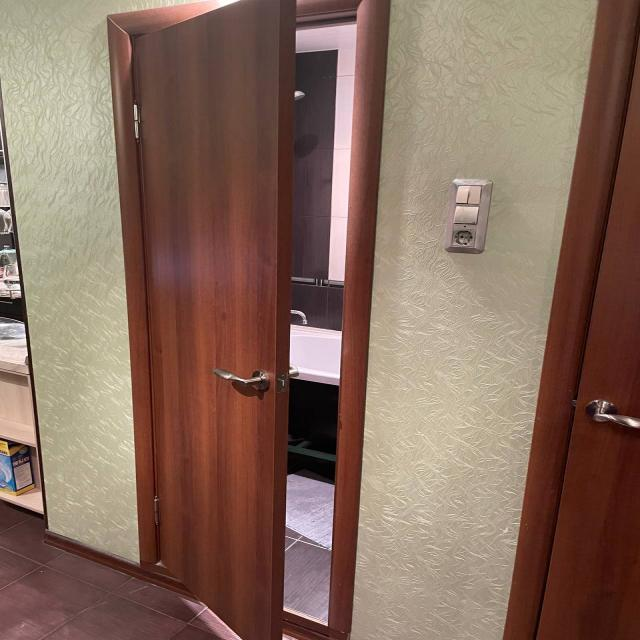open: (121, 30, 347, 622)
